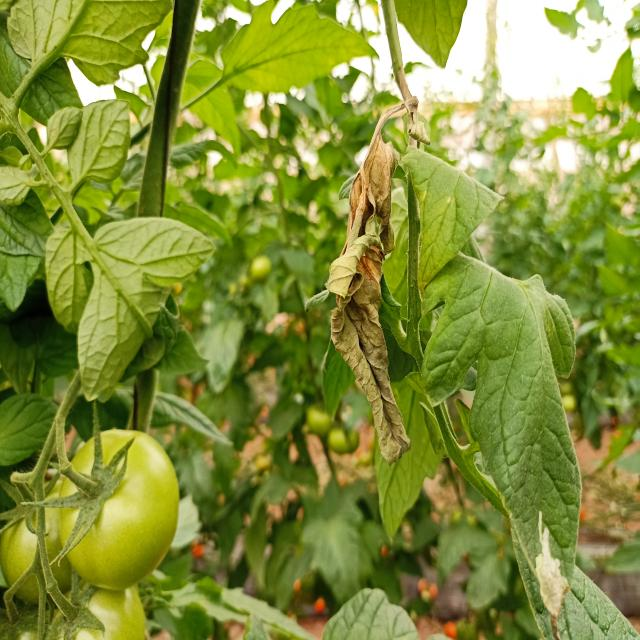Unripe Tomato: (54, 426, 180, 599)
